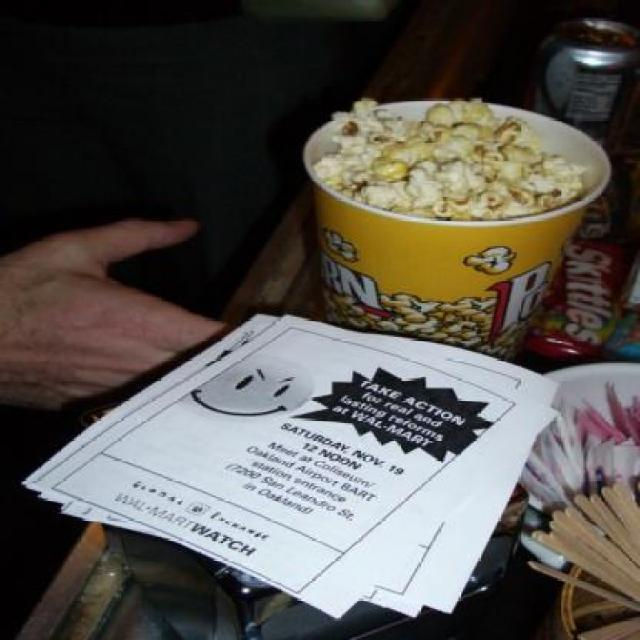Popcorn: (313, 97, 595, 221), (319, 297, 533, 365), (465, 242, 521, 274), (322, 230, 362, 264)
